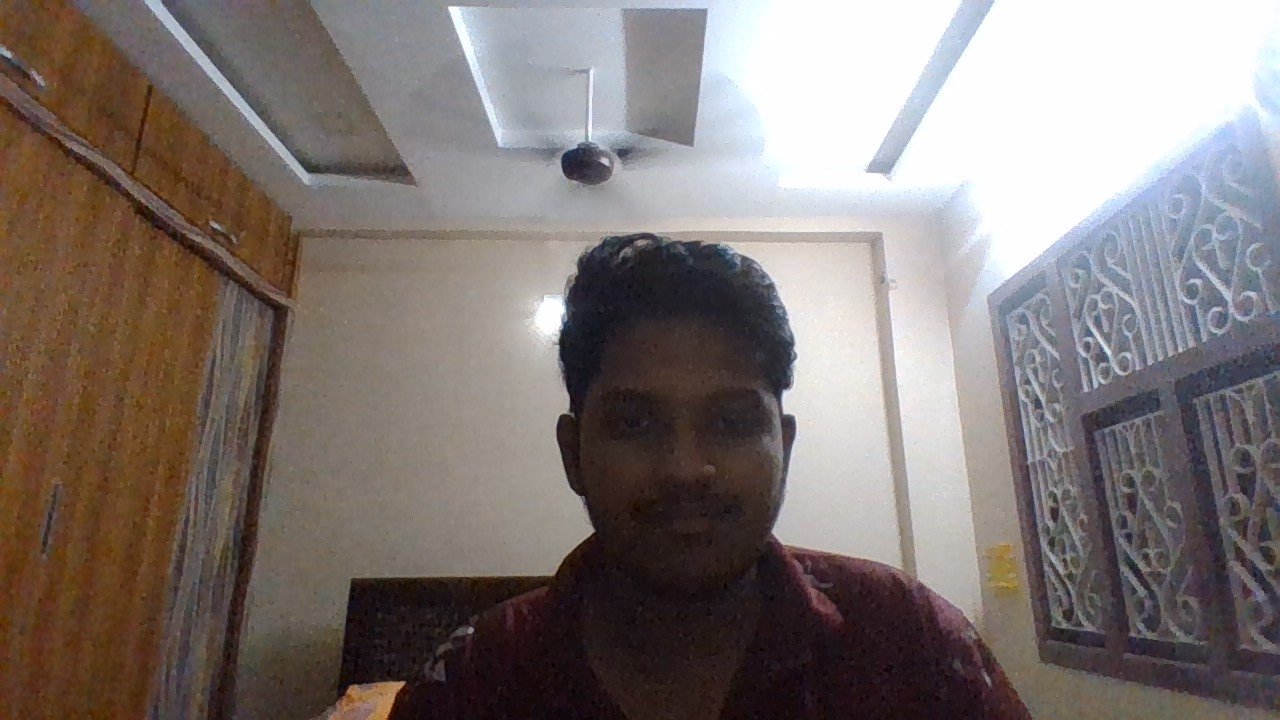person: (416, 135, 983, 720)
